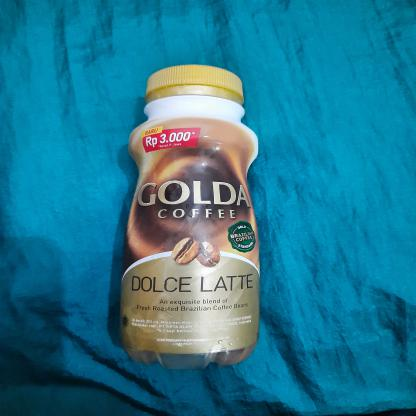plastic: (108, 61, 268, 374)
